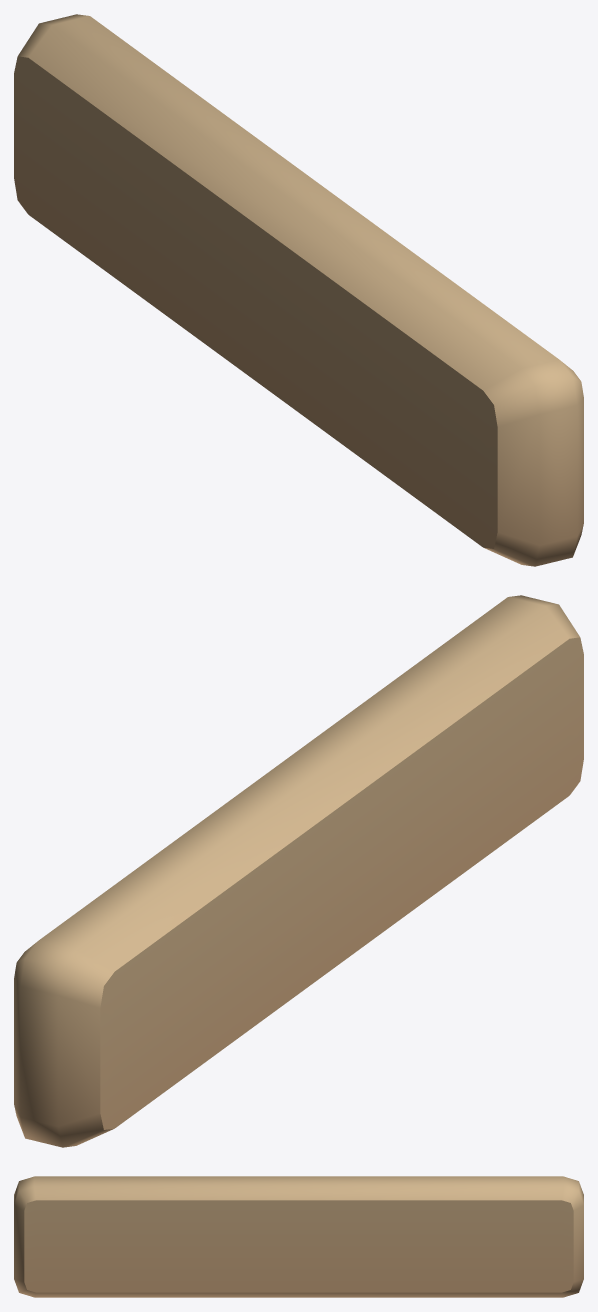
Rendered from pillow-wider-square.glb.
3 renders of one model, top to bottom at view 1: azimuth 30°, elevation 25°; view 2: azimuth 150°, elevation 25°; view 3: azimuth 270°, elevation 25°, orthographic. The views are drawn at different scales.
Parts seen in each view (by area): view 1: pillow-wider-square; view 2: pillow-wider-square; view 3: pillow-wider-square.
Part boxes in pixels (bbox=[...]): pillow-wider-square: bbox=[14, 14, 583, 566]; pillow-wider-square: bbox=[14, 595, 583, 1147]; pillow-wider-square: bbox=[14, 1176, 583, 1297].
Bounding box in the file's own units: 0.1352 × 0.3 × 1.4.
